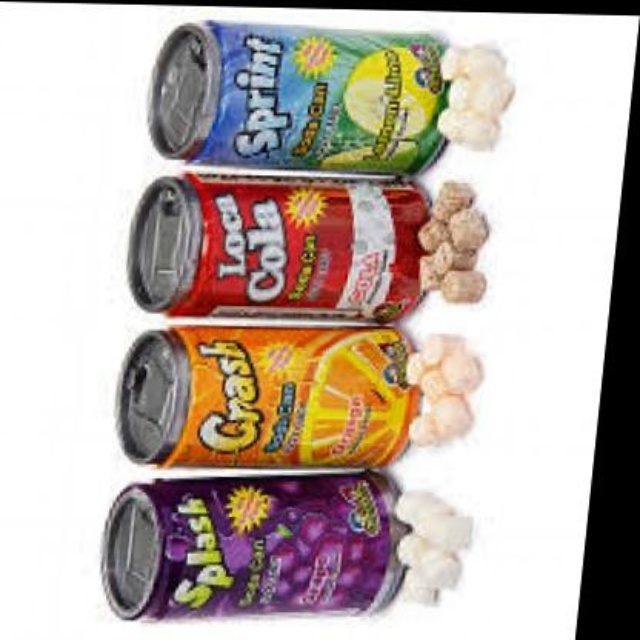trash: (149, 23, 448, 172), (102, 472, 408, 617), (128, 172, 426, 320), (118, 326, 417, 466)
